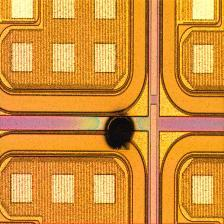PARTICLE: (99, 108, 143, 152)
